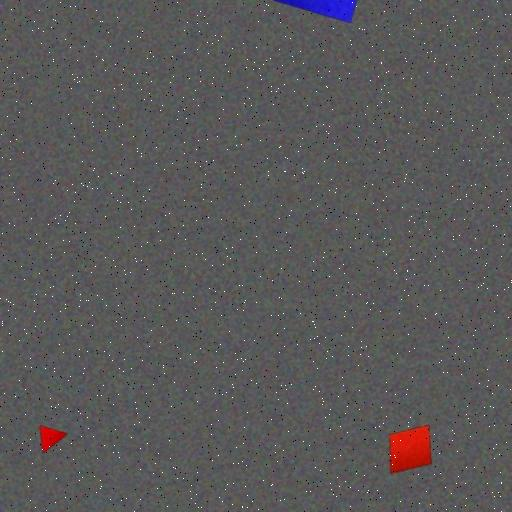RED_SQUARE: (389, 425, 432, 474)
